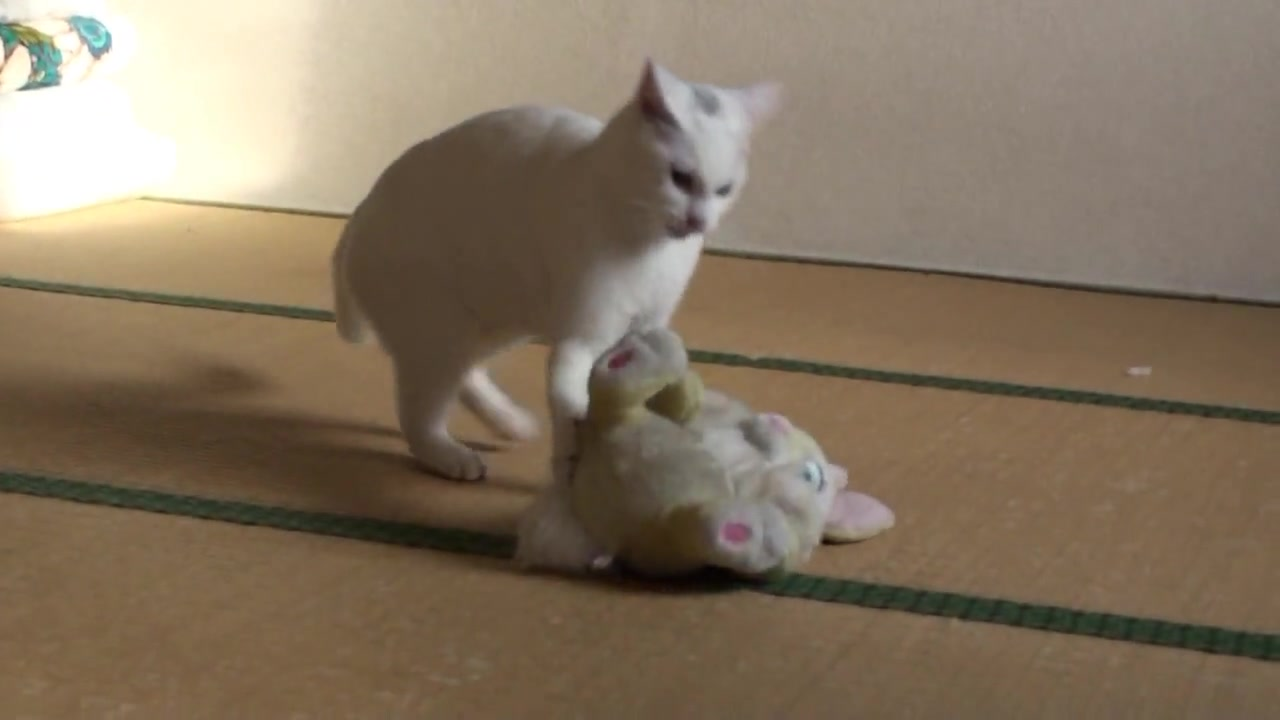cat: (330, 67, 790, 488)
